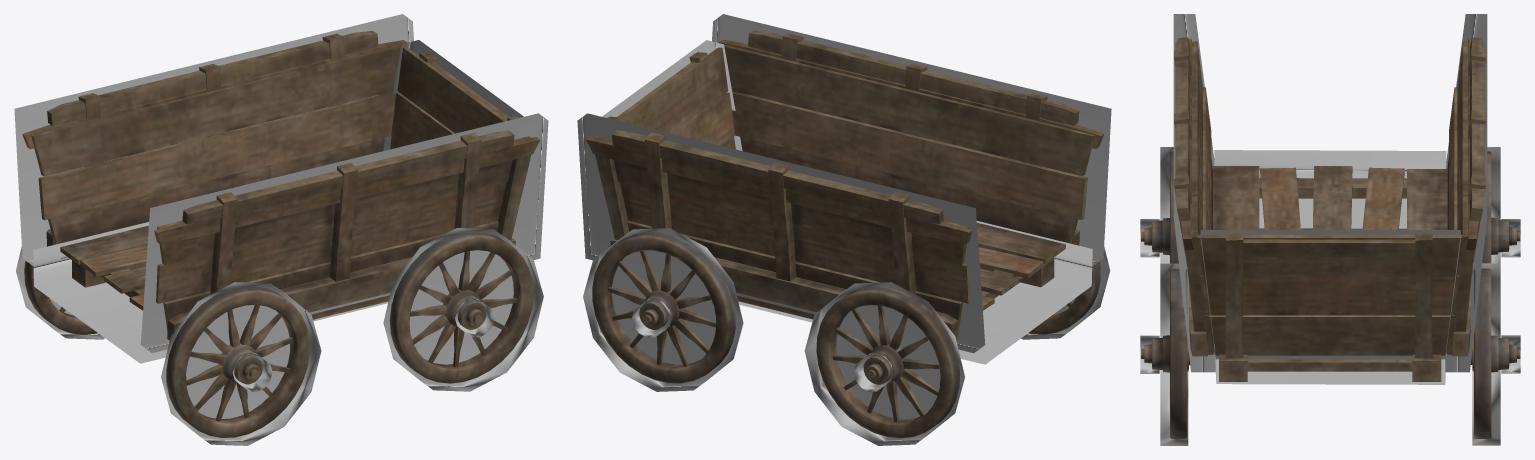
Rendered from SM_Wooden_Cart_01a.gltf.
3 views of the same model, side by side, from view 1: azimuth 30°, elevation 25°; view 2: azimuth 150°, elevation 25°; view 3: azimuth 270°, elevation 25° (orthographic). The views are drawn at different scales.
Visible parts, largest first — view 1: SM_Wooden_Cart_01a_LOD0, SM_Wooden_Cart_01a_ConvexHulls; view 2: SM_Wooden_Cart_01a_LOD0, SM_Wooden_Cart_01a_ConvexHulls; view 3: SM_Wooden_Cart_01a_LOD0, SM_Wooden_Cart_01a_ConvexHulls.
Part boxes in pixels (box(x1,y1,x2,y2)): SM_Wooden_Cart_01a_LOD0: box(22, 31, 540, 437); SM_Wooden_Cart_01a_ConvexHulls: box(14, 14, 548, 445); SM_Wooden_Cart_01a_LOD0: box(586, 30, 1103, 438); SM_Wooden_Cart_01a_ConvexHulls: box(577, 14, 1111, 445); SM_Wooden_Cart_01a_LOD0: box(1141, 37, 1520, 438); SM_Wooden_Cart_01a_ConvexHulls: box(1140, 14, 1520, 445).
Size of what is drawn, in the model's own units: 3.32 by 1.98 by 2.59.
Materials: 2 (1 with a texture image).
